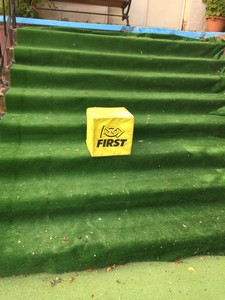cube: (85, 107, 135, 158)
